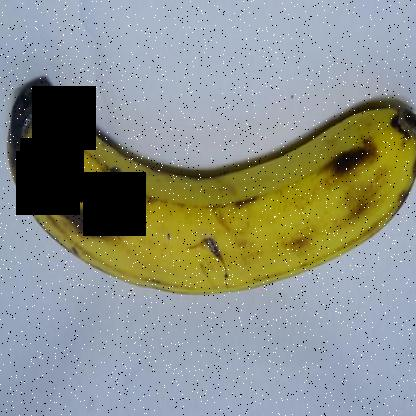ripe: (1, 75, 415, 314)
